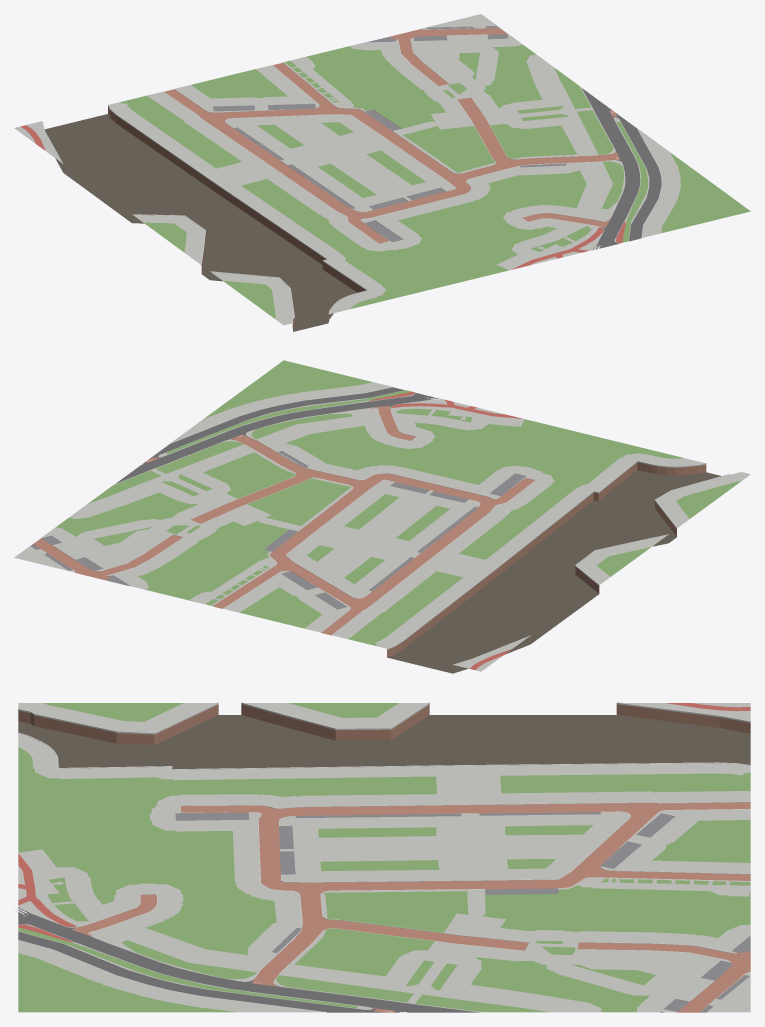
File: ground_11_8.glb
The picture shows the model from 3 angles, top to bottom: view 1: azimuth 30°, elevation 25°; view 2: azimuth 150°, elevation 25°; view 3: azimuth 270°, elevation 25°; orthographic projection. The views are drawn at different scales.
Parts seen in each view (by area): view 1: ground_11_8; view 2: ground_11_8; view 3: ground_11_8.
Part boxes in pixels (x1,y1,x2,y2): ground_11_8: (14,14,750,331); ground_11_8: (14,360,750,673); ground_11_8: (14,702,750,1012).
Size of the model in its own units: 200 by 3.68 by 201.
